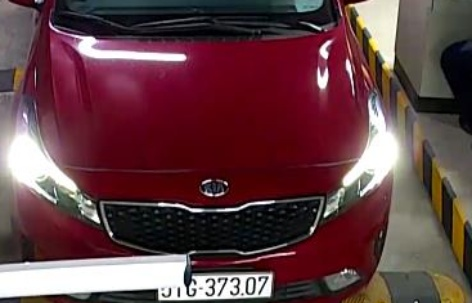plate: (151, 265, 277, 302)
